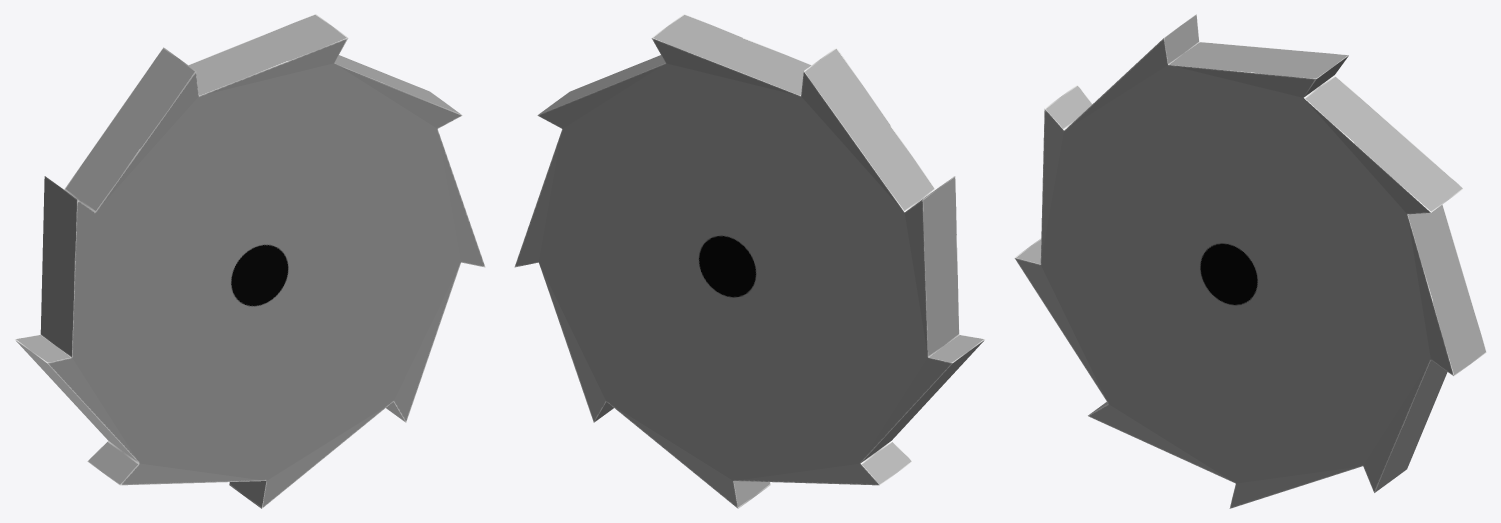
The model's file is blade.obj.
3 views of the same model, side by side, from view 1: azimuth 30°, elevation 25°; view 2: azimuth 150°, elevation 25°; view 3: azimuth 330°, elevation 25° (orthographic).
Visible parts, largest first — view 1: 円; view 2: 円; view 3: 円.
Part boxes in pixels (x1=…): 円: x1=15, y1=14, x2=485, y2=508; 円: x1=514, y1=14, x2=984, y2=508; 円: x1=1014, y1=14, x2=1486, y2=508.
Bounding box in the file's own units: 2 × 1.98 × 0.2582.
1 material, 1 textured.
